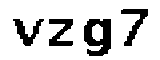7: (118, 7, 151, 48)
g: (81, 15, 116, 60)
v: (11, 17, 45, 48)
z: (47, 17, 79, 53)
